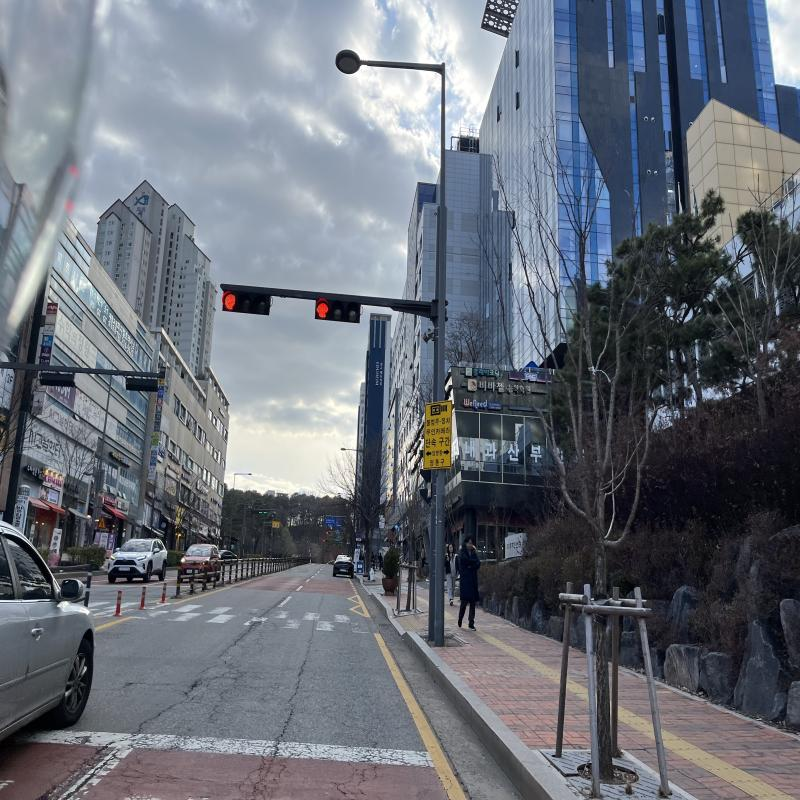red: (316, 300, 331, 320), (223, 290, 236, 311)
